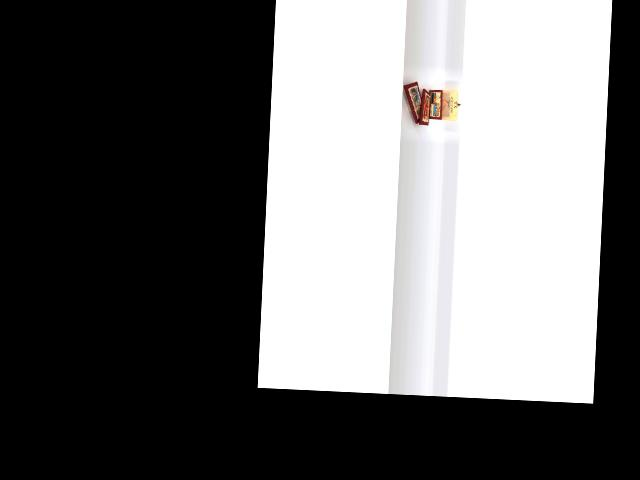chocolate: (398, 72, 425, 126)
